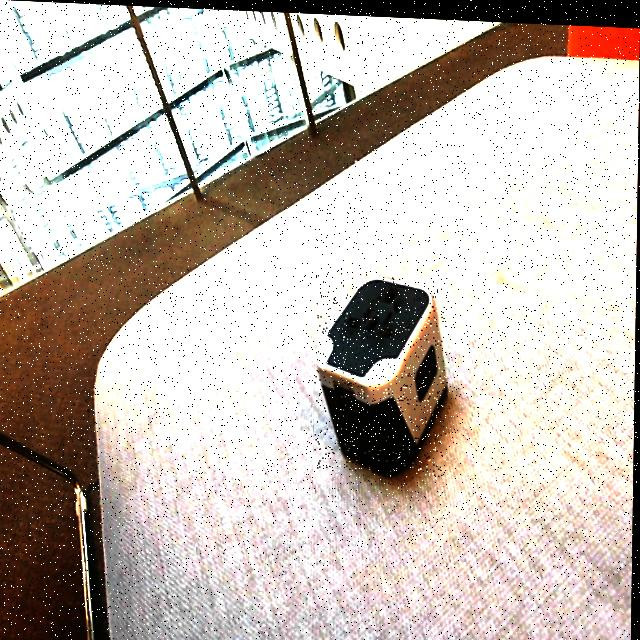adapter: (315, 269, 450, 475)
